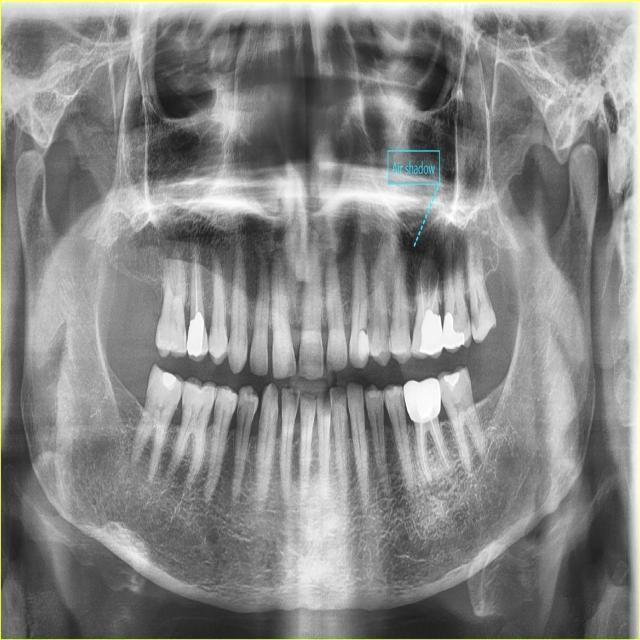Caries: (471, 306, 480, 334)
Crown: (403, 378, 441, 423)
Filling: (418, 311, 443, 355), (443, 311, 465, 349), (187, 312, 204, 357), (358, 329, 368, 360), (444, 371, 459, 389), (162, 372, 177, 388), (387, 386, 403, 396), (368, 388, 382, 398)
Root Canal Treatment: (430, 419, 450, 471), (419, 422, 432, 481), (430, 272, 439, 312), (420, 264, 425, 318), (195, 268, 198, 318), (427, 273, 430, 305)
